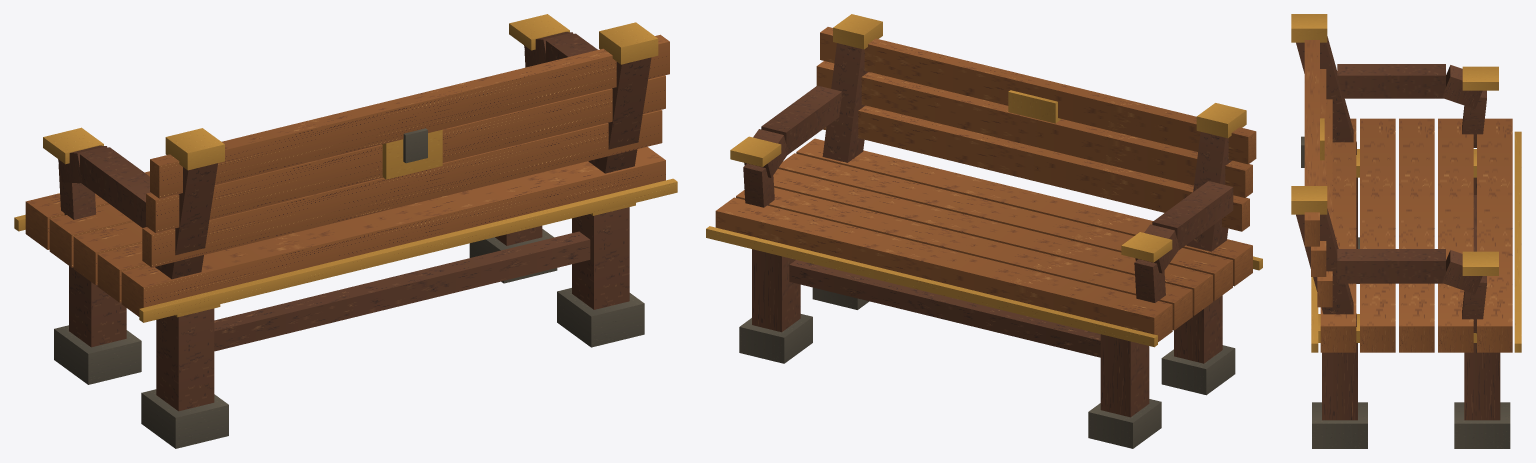
Rendered from Willowbrook_Bench.obj.
The picture shows the model from 3 angles, left to right: view 1: azimuth 30°, elevation 25°; view 2: azimuth 150°, elevation 25°; view 3: azimuth 270°, elevation 25°; orthographic projection. The views are drawn at different scales.
Parts seen in each view (by area): view 1: Willowbrook_Bench; view 2: Willowbrook_Bench; view 3: Willowbrook_Bench.
Part boxes in pixels (x1,y1,x2,y2): Willowbrook_Bench: [14, 14, 677, 448]; Willowbrook_Bench: [706, 14, 1262, 448]; Willowbrook_Bench: [1291, 14, 1521, 448].
Size of the model in its own units: 1.8 by 0.9925 by 0.8265.
1 material, 1 textured.
